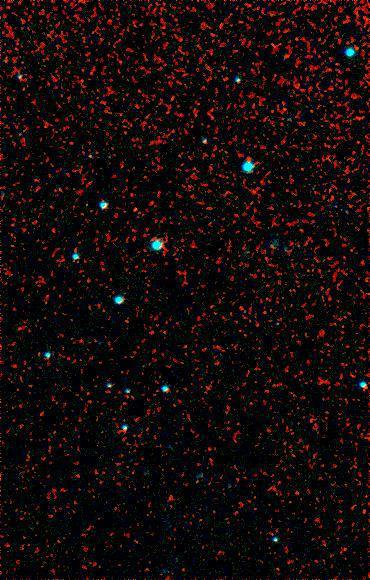star: (154, 481, 184, 511)
